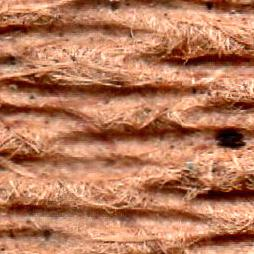egg: (217, 129, 245, 151), (218, 132, 244, 140), (218, 141, 245, 148)
